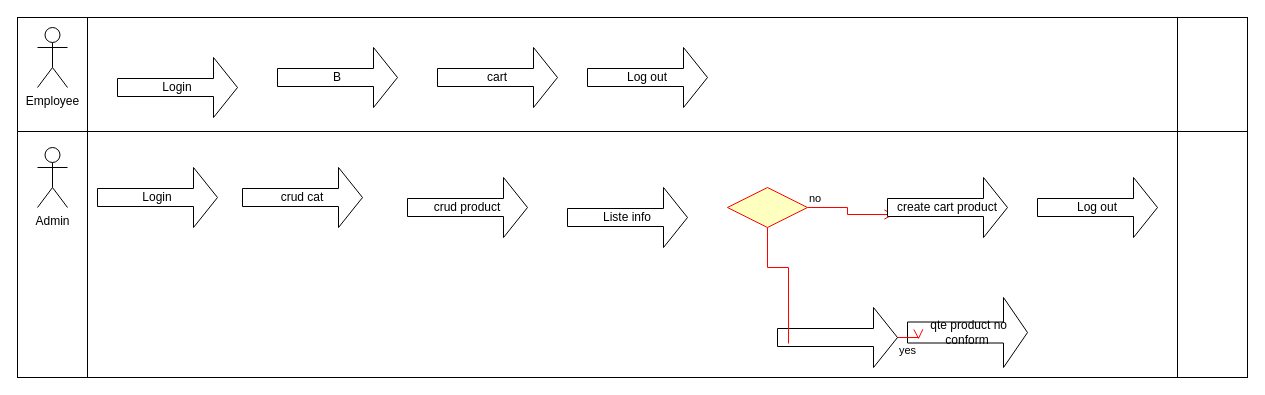
Image size: 1265x395. Some labels were removed from this diagram. The centre of each missing label's shape, as x and y in pixels:
"change qte product" goes at [837,337].
"enable qte" goes at [767,207].
